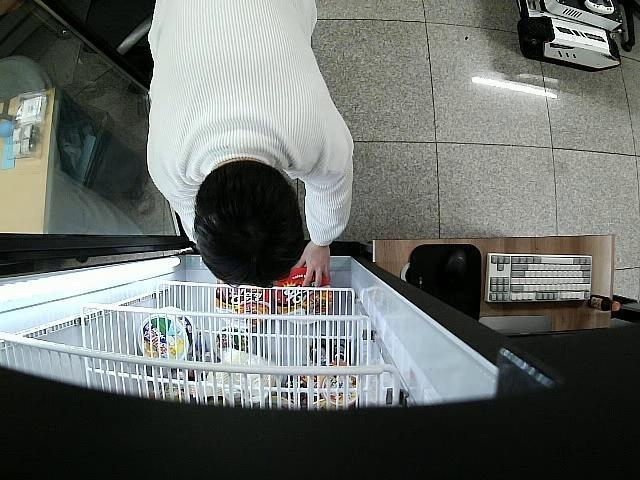10_wangTtukkeong: (276, 267, 332, 324)
